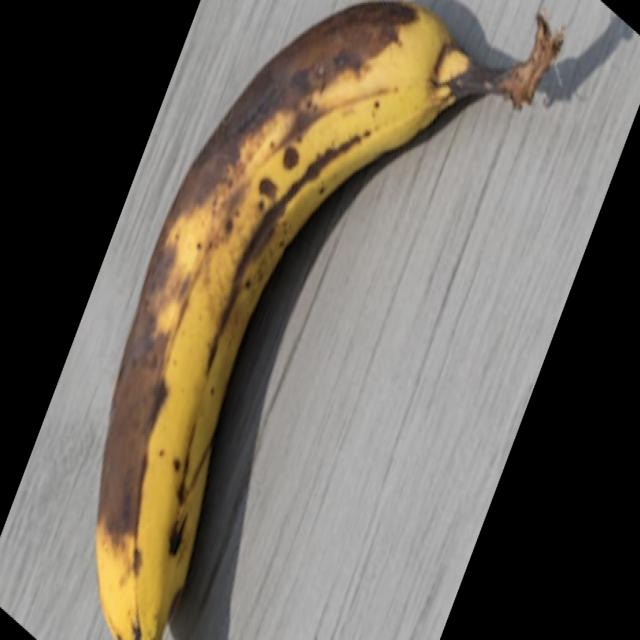overripe: (94, 0, 500, 640)
